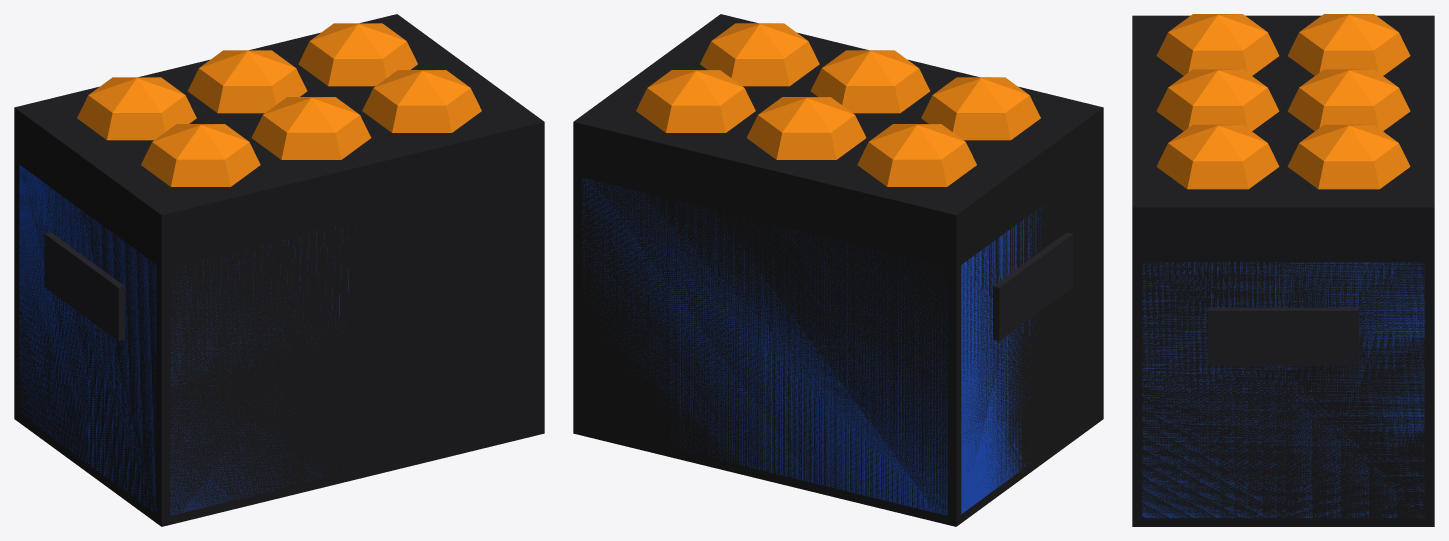
File: env_crate_oranges.fbx
3 renders of one model, left to right at view 1: azimuth 30°, elevation 25°; view 2: azimuth 150°, elevation 25°; view 3: azimuth 270°, elevation 25°, orthographic. The views are drawn at different scales.
Parts seen in each view (by area): view 1: COL_env_crate_oranges, env_crate_oranges_geo_LOD0; view 2: COL_env_crate_oranges, env_crate_oranges_geo_LOD0; view 3: COL_env_crate_oranges, env_crate_oranges_geo_LOD0.
Boxes of the visible parts, bbox=[...] form: COL_env_crate_oranges: bbox=[14, 14, 544, 526]; env_crate_oranges_geo_LOD0: bbox=[19, 23, 481, 515]; COL_env_crate_oranges: bbox=[573, 14, 1103, 526]; env_crate_oranges_geo_LOD0: bbox=[582, 23, 1073, 515]; COL_env_crate_oranges: bbox=[1132, 15, 1434, 526]; env_crate_oranges_geo_LOD0: bbox=[1142, 14, 1424, 517].
Size of what is drawn, in the model's own units: 0.93 by 0.79 by 0.6.
